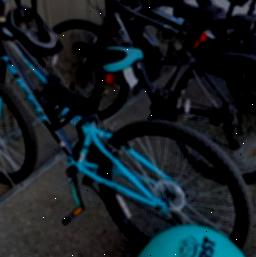algae: (126, 222, 256, 257)
